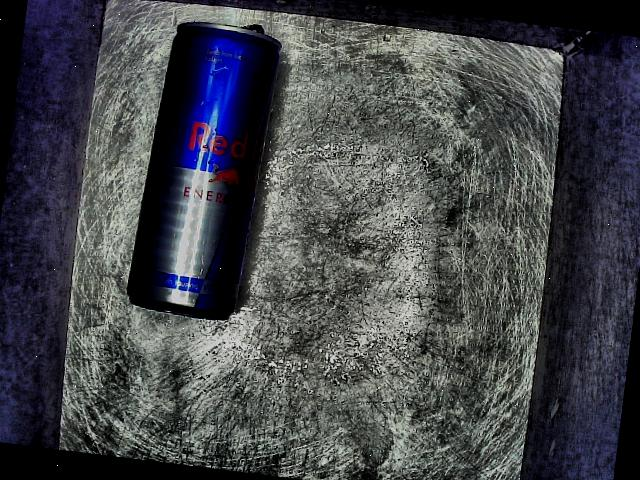Bottles: (114, 4, 319, 366)
